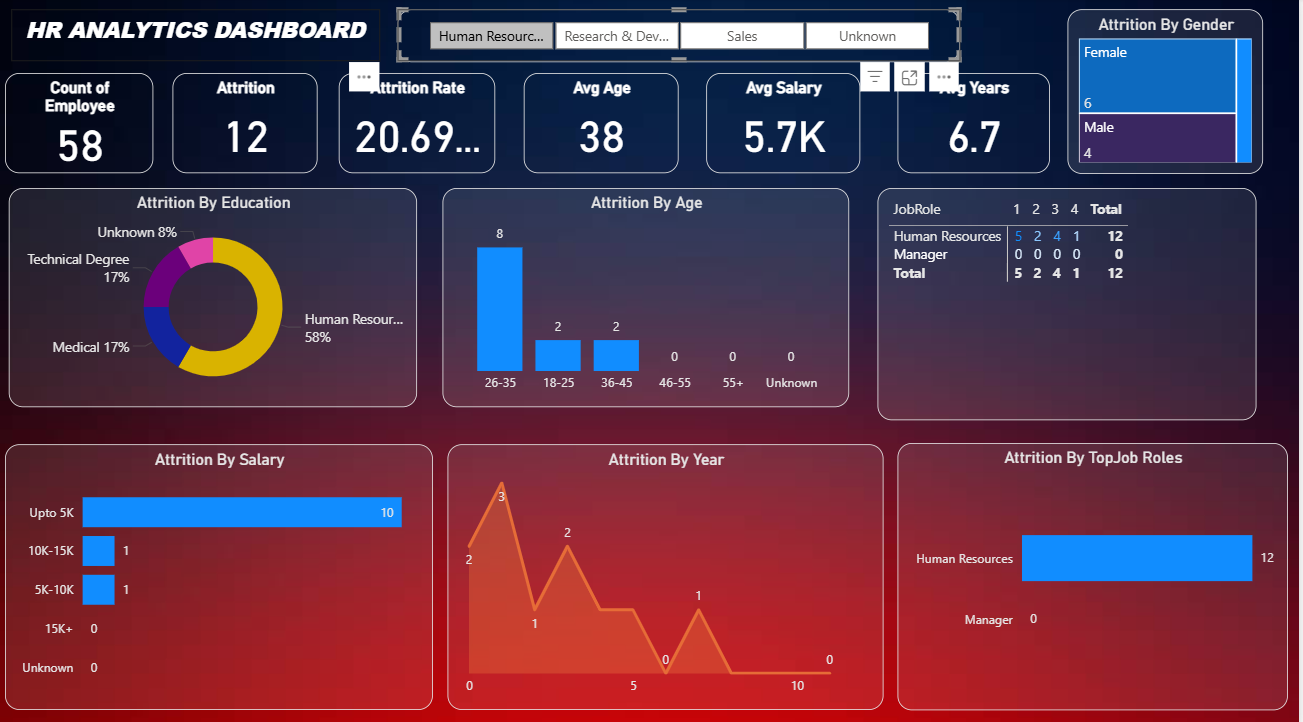

This screenshot's page, from the dashboard's own definition file:
{"tool":"powerbi","page":{"name":"Page 1","canvas":[1280,720],"ordinal":0},"visuals":[{"type":"card","title":"Count of Employee","fields":{"Values":["CountNonNull(HR_Cbi.EmpID)"]},"box":[9.6,74.1,145.5,98.8],"z":0},{"type":"card","title":"Attrition","fields":{"Values":["Sum(HR_Cbi.AttritionCount)"]},"box":[174.3,74.1,142.7,98.8],"z":1000},{"type":"card","title":"Attrition Rate","fields":{"Values":["HR_Cbi.Attrition Rate"]},"box":[337.6,74.1,153.7,98.8],"z":2000},{"type":"card","title":"Avg Age","fields":{"Values":["Avg(HR_Cbi.Age)"]},"box":[518.7,74.1,152.3,98.8],"z":3000},{"type":"card","title":"Avg Salary","fields":{"Values":["Avg(HR_Cbi.MonthlyIncome)"]},"box":[698.5,74.1,150.9,98.8],"z":4000},{"type":"card","title":"Avg Years","fields":{"Values":["Avg(HR_Cbi.YearsAtCompany)"]},"box":[886.5,74.1,149.6,98.8],"z":5000},{"type":"donutChart","title":"Attrition By Education","fields":{"Category":["HR_Cbi.EducationField"],"Y":["Sum(HR_Cbi.AttritionCount)"]},"box":[13.7,186.6,400.7,215.4],"z":6000},{"type":"columnChart","title":"Attrition By Age","fields":{"Y":["Sum(HR_Cbi.AttritionCount)"],"Category":["HR_Cbi.AgeGroup"]},"box":[439.1,186.6,399.3,215.4],"z":7000},{"type":"pivotTable","fields":{"Rows":["HR_Cbi.JobRole"],"Columns":["HR_Cbi.JobSatisfaction"],"Values":["Sum(HR_Cbi.AttritionCount)"]},"box":[866.3,186.5,371.8,228.2],"z":8000},{"type":"barChart","title":"Attrition By Salary","fields":{"Category":["HR_Cbi.SalarySlab"],"Y":["Sum(HR_Cbi.AttritionCount)"]},"box":[9.6,437.7,419.9,260.7],"z":9000},{"type":"barChart","title":"Attrition By TopJob Roles","fields":{"Category":["HR_Cbi.JobRole","HR_Cbi.SalarySlab"],"Y":["Sum(HR_Cbi.AttritionCount)"]},"box":[886.5,436.4,382.8,262.1],"z":10000},{"type":"areaChart","title":"Attrition By Year","fields":{"Category":["HR_Cbi.YearsAtCompany"],"Y":["Sum(HR_Cbi.AttritionCount)"]},"box":[444.6,437.7,428.1,260.7],"z":11000},{"type":"treemap","title":"Attrition By Gender","fields":{"Group":["HR_Cbi.Gender"],"Values":["Sum(HR_Cbi.AttritionCount)"]},"box":[1052.5,11,192.1,161.9],"z":12000},{"type":"slicer","fields":{"Values":["HR_Cbi.Department"]},"box":[395.2,11,551.6,52.1],"z":13000},{"type":"textbox","box":[16.5,11,360.9,52.1],"z":14000}]}

Visuals, with their boxes in screenshot pixels (x1, y1, x2, y2), scaled from the page's 1280x720 canvas onto the 1303x722 screenshot:
"Count of Employee" card: 10:74:158:173
"Attrition" card: 177:74:323:173
"Attrition Rate" card: 344:74:500:173
"Avg Age" card: 528:74:683:173
"Avg Salary" card: 711:74:865:173
"Avg Years" card: 902:74:1055:173
"Attrition By Education" donutChart: 14:187:422:403
"Attrition By Age" columnChart: 447:187:853:403
pivotTable - HR_Cbi.JobRole x HR_Cbi.JobSatisfaction: 882:187:1260:416
"Attrition By Salary" barChart: 10:439:437:700
"Attrition By TopJob Roles" barChart: 902:438:1292:700
"Attrition By Year" areaChart: 453:439:888:700
"Attrition By Gender" treemap: 1071:11:1267:173
slicer - HR_Cbi.Department: 402:11:964:63
textbox: 17:11:384:63
